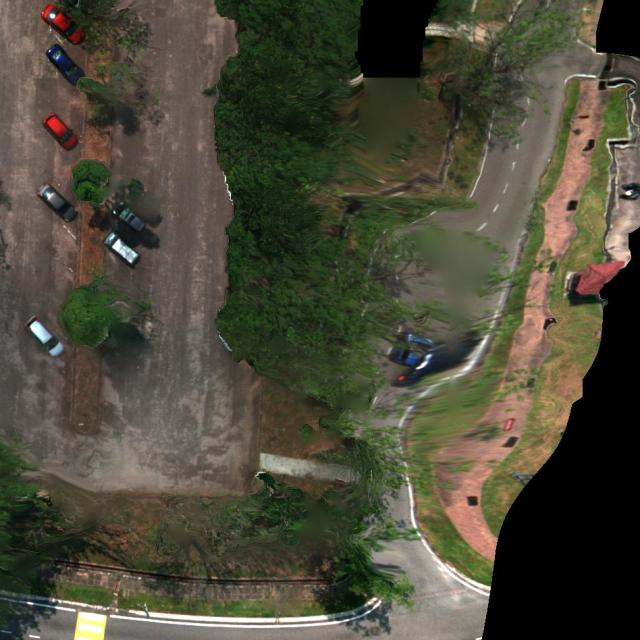Tree: (56, 276, 132, 350), (52, 0, 146, 58), (76, 58, 166, 113), (70, 158, 110, 206)
